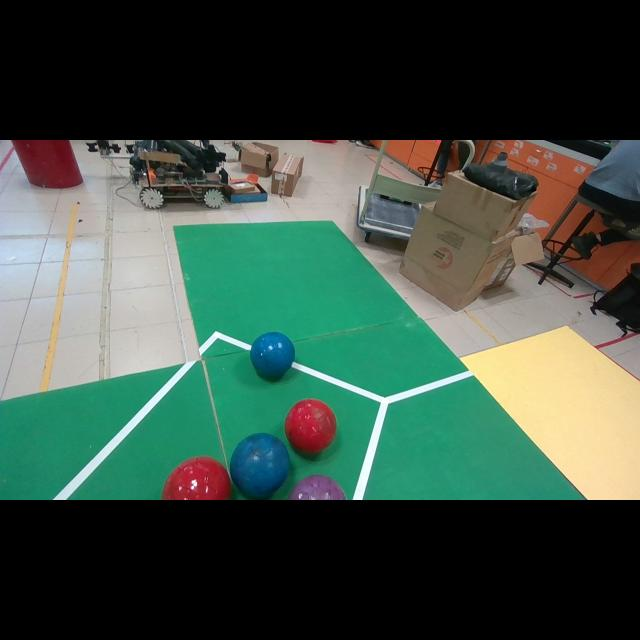B: (230, 432, 290, 499), (250, 331, 295, 380)
P: (289, 475, 346, 500)
R: (161, 456, 231, 500), (285, 399, 336, 454)
